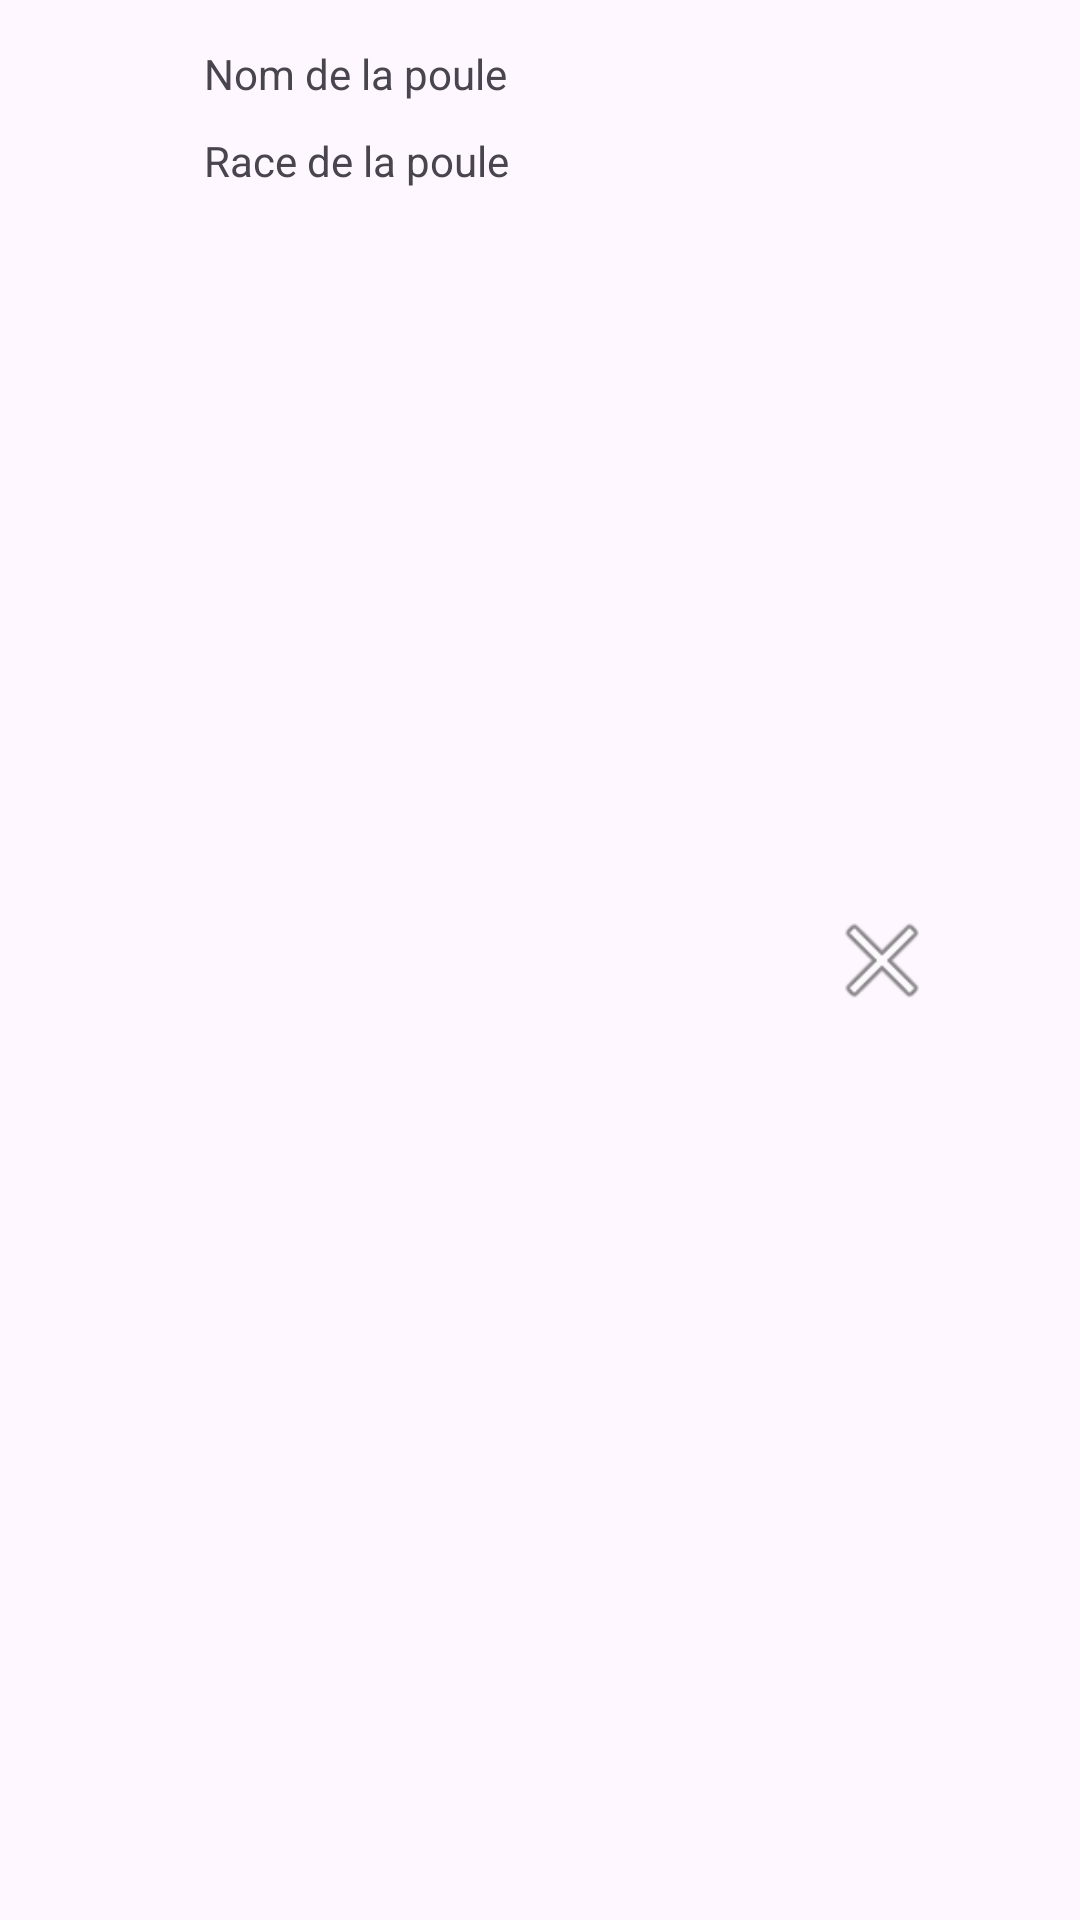

Icon click points for this 1080px×1920px phone screenshot, format (x,y):
close clear cancel: (882,960)
